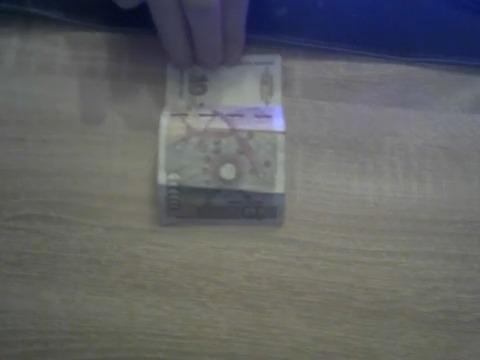10leva: (157, 55, 287, 227)
